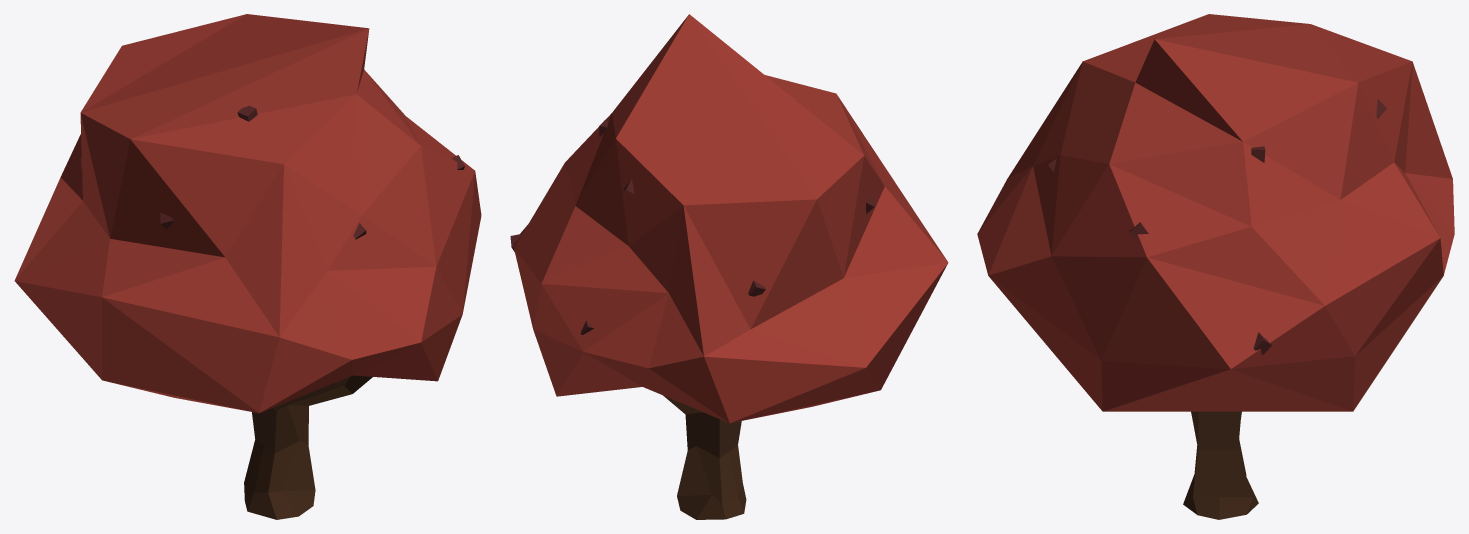
The model's file is Tree_26_Red.fbx.
3 views of the same model, side by side, from view 1: azimuth 30°, elevation 25°; view 2: azimuth 150°, elevation 25°; view 3: azimuth 270°, elevation 25° (orthographic). The views are drawn at different scales.
Visible parts, largest first — view 1: Tree_26_Red_Part_1, Tree_26_Red_Part_2, Tree_26_Red_Part_3; view 2: Tree_26_Red_Part_1, Tree_26_Red_Part_2, Tree_26_Red_Part_3; view 3: Tree_26_Red_Part_1, Tree_26_Red_Part_2, Tree_26_Red_Part_3.
Boxes of the visible parts, <box> form: Tree_26_Red_Part_1: <box>14,14,481,413</box>; Tree_26_Red_Part_2: <box>244,375,372,519</box>; Tree_26_Red_Part_3: <box>80,105,464,239</box>; Tree_26_Red_Part_1: <box>513,14,948,423</box>; Tree_26_Red_Part_2: <box>663,395,746,519</box>; Tree_26_Red_Part_3: <box>510,101,874,334</box>; Tree_26_Red_Part_1: <box>977,14,1454,411</box>; Tree_26_Red_Part_2: <box>1183,411,1258,519</box>; Tree_26_Red_Part_3: <box>1048,99,1441,354</box>.
Size of the model in its own units: 717 by 789 by 692.
